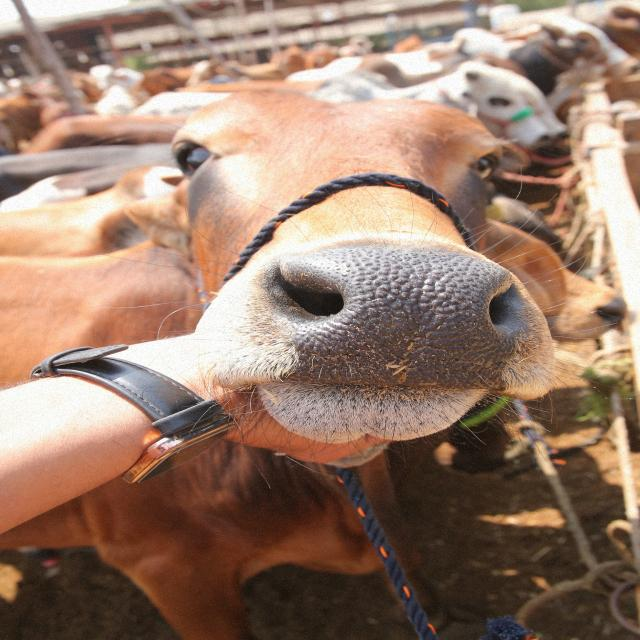muzzles: (265, 250, 524, 386)
